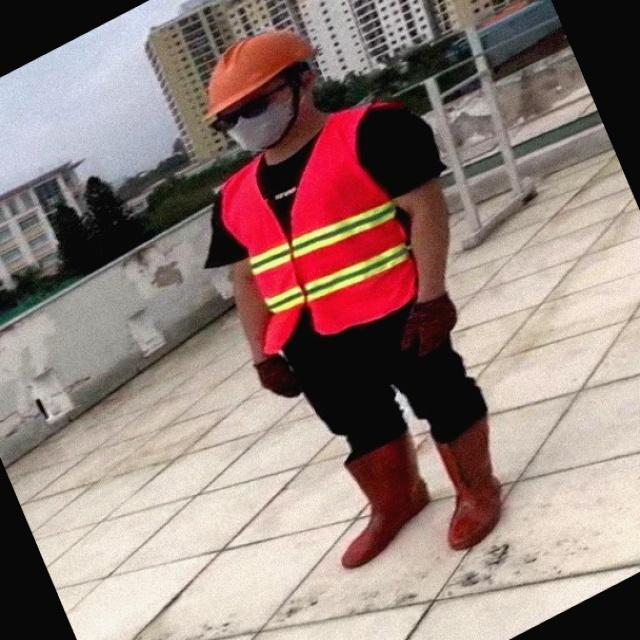helmet: (201, 28, 320, 125)
safety_vest: (218, 100, 426, 360)
